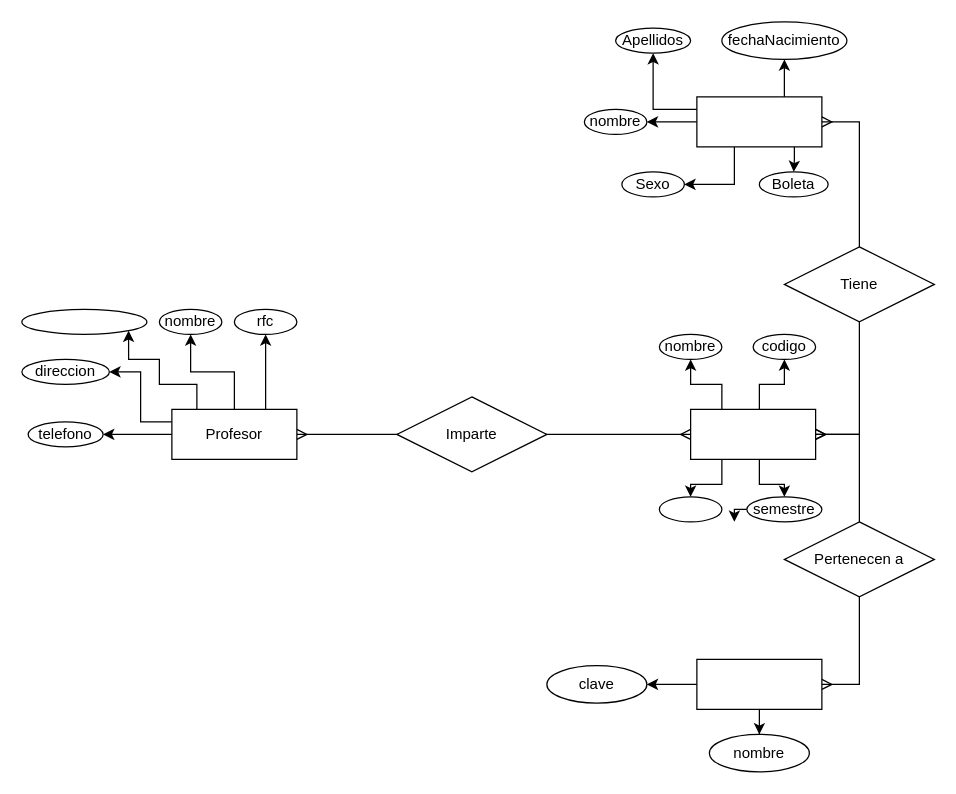
This 956x794 diagram has some shape labels left out. The box of each missing label's shape, as (x1, y1, x2, y2) in pixels:
Alumno: (696, 96, 822, 147)
Carrera: (696, 658, 822, 709)
creditos: (658, 496, 722, 522)
departamento: (21, 308, 147, 334)
Modulo: (689, 408, 816, 459)
